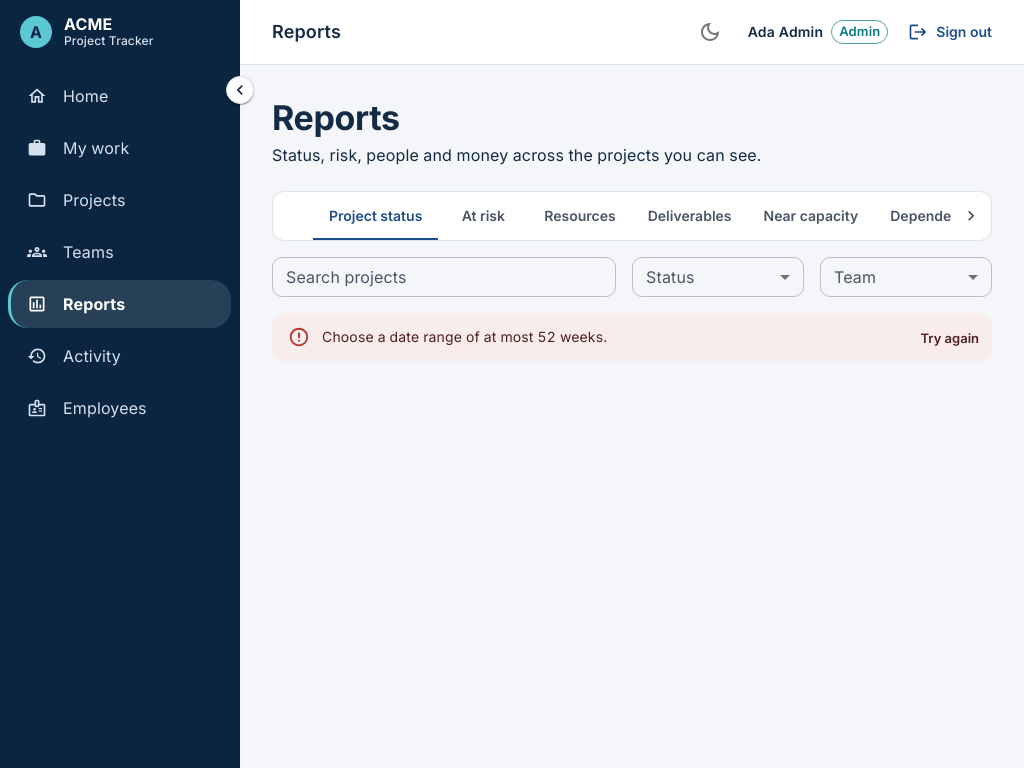
Test: Reports: content › a failing report shows a fixed message and can be retried
expect the text "Choose a date range of at most 52 weeks." is shown: met, box top-left (322, 328), bottom-right (607, 345)
Step 1. Click the button "Try again" → click(950, 338), box top-left (915, 323), bottom-right (984, 354)
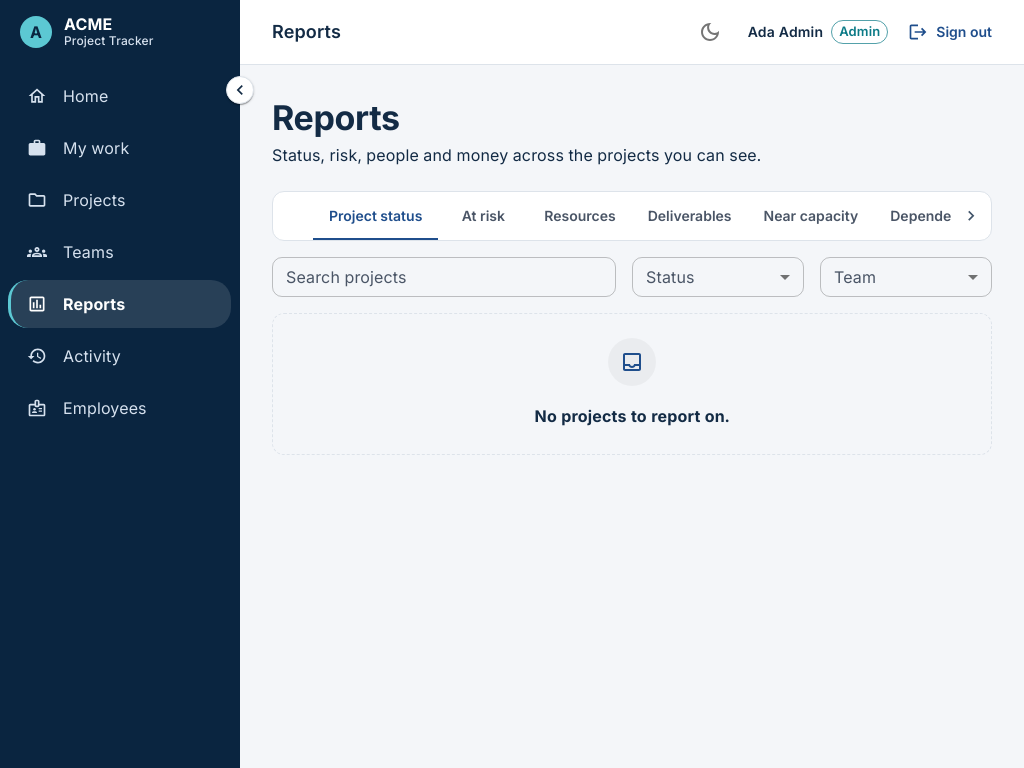
expect the text "No projects to report on." is shown: met, box top-left (535, 402), bottom-right (729, 430)
